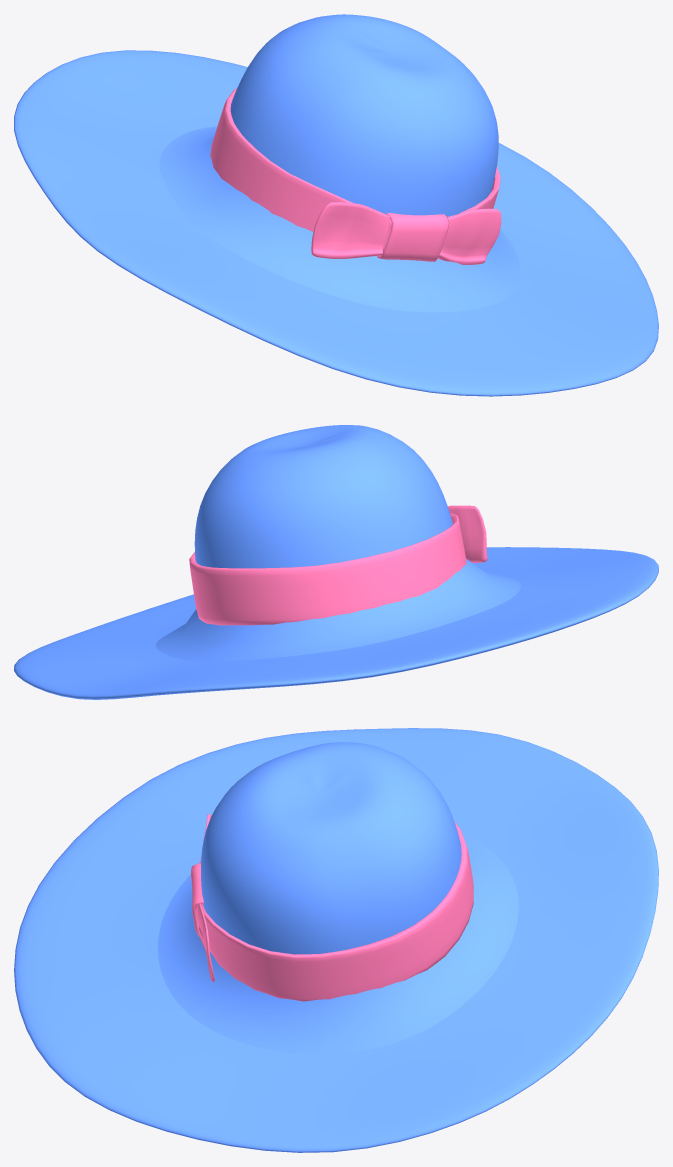
The model's file is BeachHat.glb.
The picture shows the model from 3 angles, top to bottom: view 1: azimuth 30°, elevation 25°; view 2: azimuth 150°, elevation 25°; view 3: azimuth 270°, elevation 25°; orthographic projection. The views are drawn at different scales.
Visible parts, largest first — view 1: hat, bow tie; view 2: hat, bow tie; view 3: hat, bow tie.
Part boxes in pixels (x1=…): hat: x1=14, y1=14, x2=658, y2=396; bow tie: x1=210, y1=88, x2=501, y2=264; hat: x1=14, y1=425, x2=658, y2=699; bow tie: x1=189, y1=505, x2=487, y2=625; hat: x1=14, y1=728, x2=658, y2=1152; bow tie: x1=191, y1=814, x2=473, y2=1001.
Size of the model in its own units: 0.873 by 0.4201 by 0.899.
